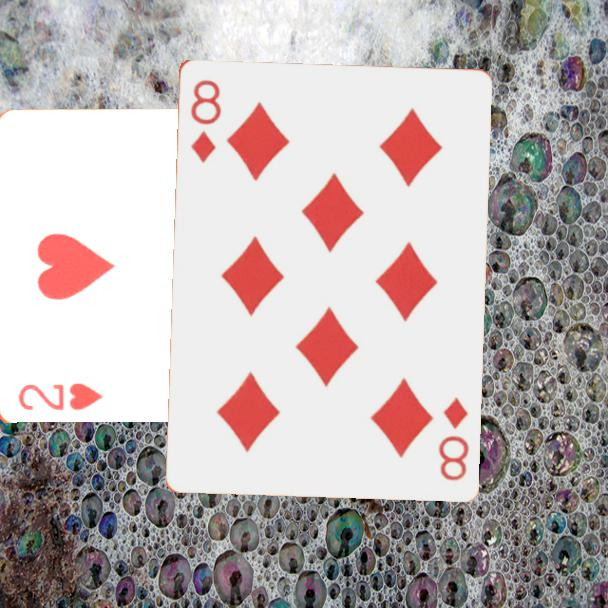d08: (187, 75, 224, 166), (435, 393, 472, 483)
h02: (14, 380, 106, 414)
